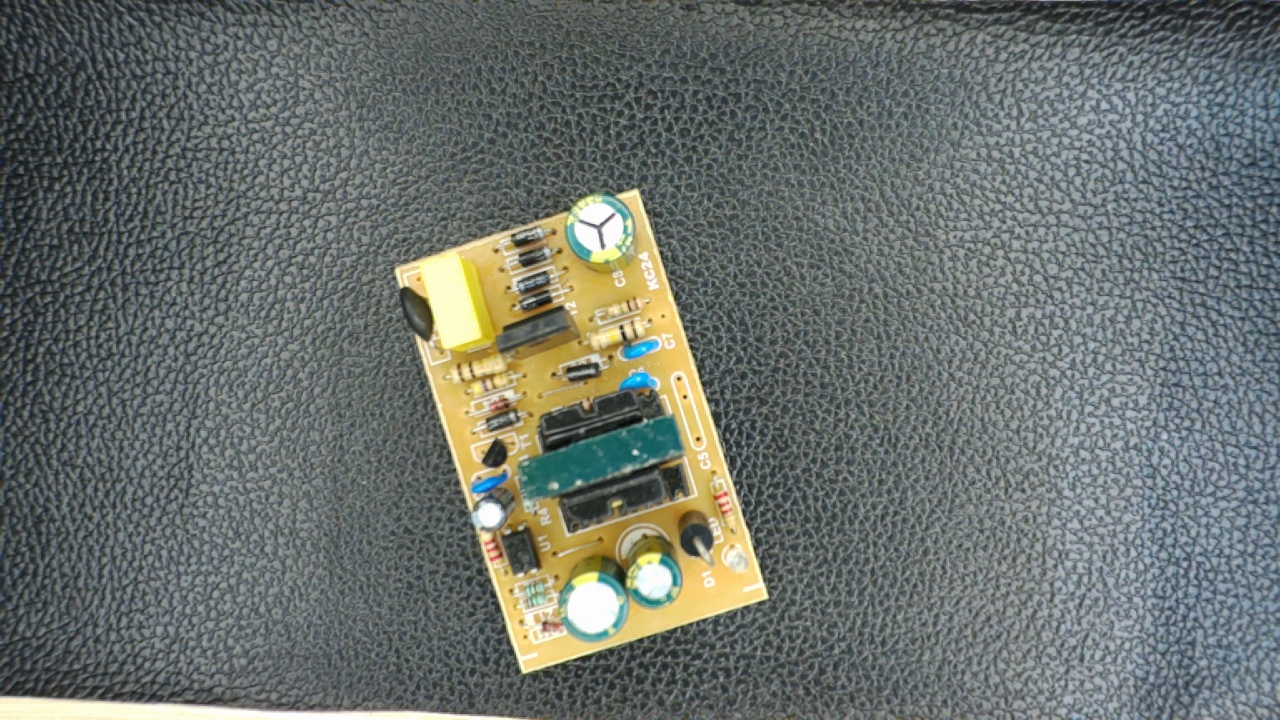fuse: (393, 285, 443, 348)
hv_capacitor: (561, 192, 642, 279)
optocoupler: (501, 521, 549, 582)
